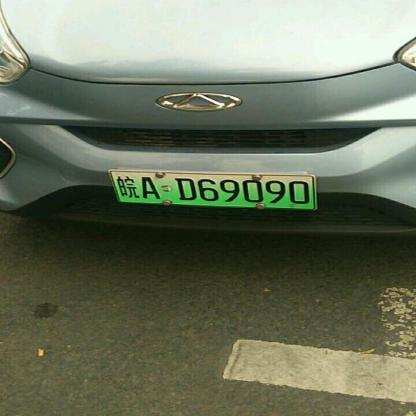lp: (110, 170, 314, 208)
